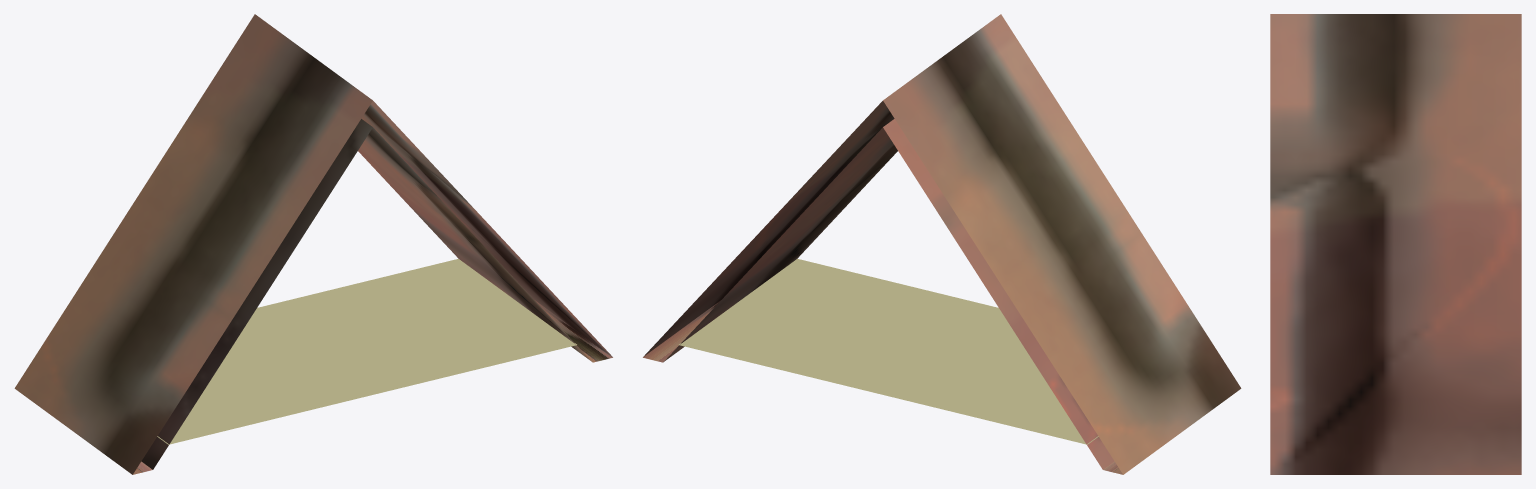
The model's file is roof_8x5x4.fbx.
3 views of the same model, side by side, from view 1: azimuth 30°, elevation 25°; view 2: azimuth 150°, elevation 25°; view 3: azimuth 270°, elevation 25° (orthographic). The views are drawn at different scales.
Visible parts, largest first — view 1: roof_8x5x4; view 2: roof_8x5x4; view 3: roof_8x5x4.
Part boxes in pixels (x1,y1,x2,y2): roof_8x5x4: (14,14,612,474); roof_8x5x4: (643,14,1241,474); roof_8x5x4: (1270,14,1521,474).
Bounding box in the file's own units: 940 × 590 × 400.
